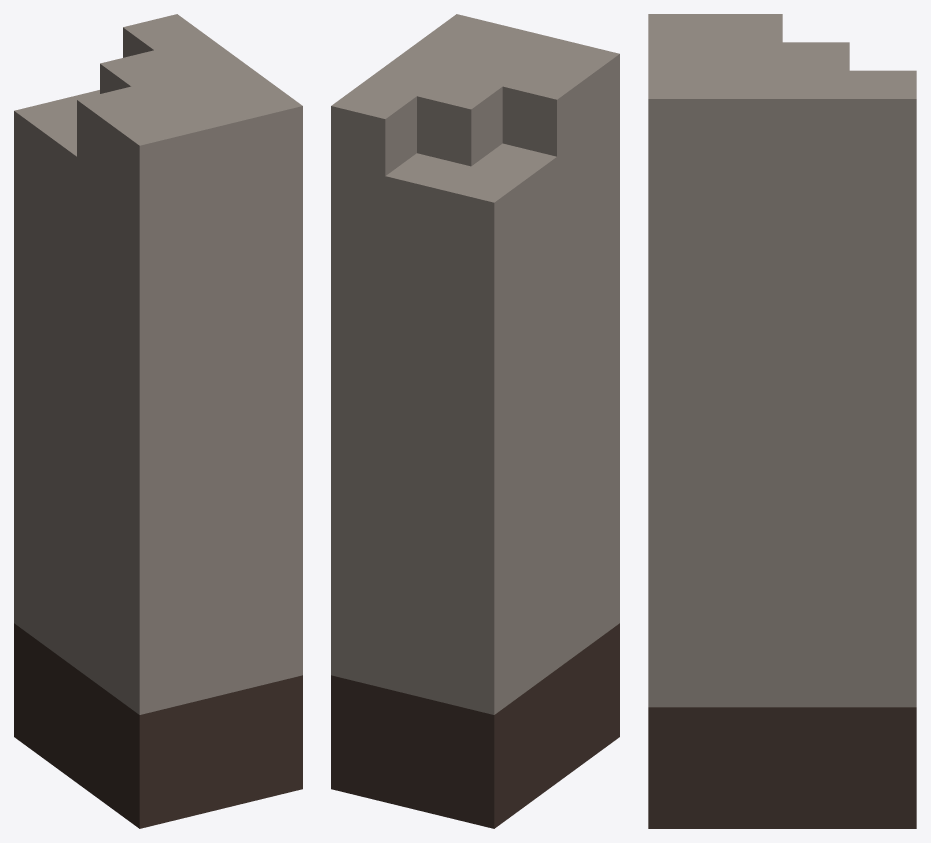
File: donkey__leg_fl.glb
The picture shows the model from 3 angles, left to right: view 1: azimuth 30°, elevation 25°; view 2: azimuth 150°, elevation 25°; view 3: azimuth 270°, elevation 25°; orthographic projection. The views are drawn at different scales.
Visible parts, largest first — view 1: donkey__leg_fl; view 2: donkey__leg_fl; view 3: donkey__leg_fl.
Part boxes in pixels (bbox=[...]): donkey__leg_fl: bbox=[14, 14, 302, 828]; donkey__leg_fl: bbox=[331, 14, 619, 828]; donkey__leg_fl: bbox=[648, 14, 916, 828].
Bounding box in the file's own units: 0.3 × 1.2 × 0.4.
Materials: 1 (1 with a texture image).
